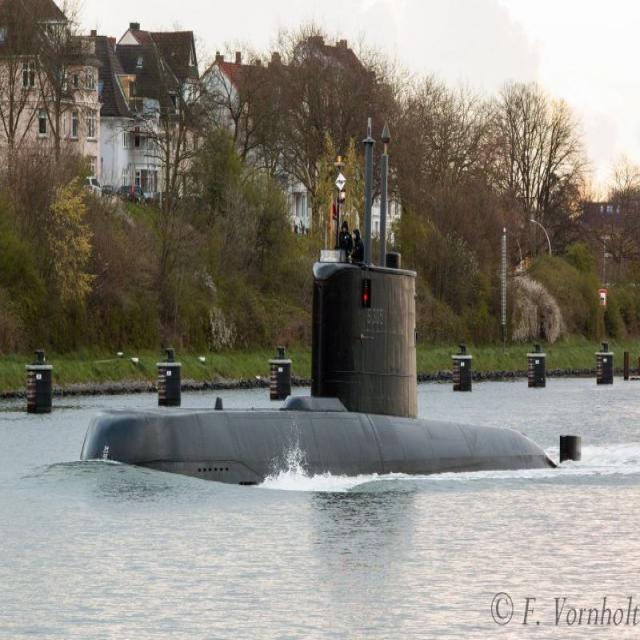submarine: (69, 116, 586, 486)
